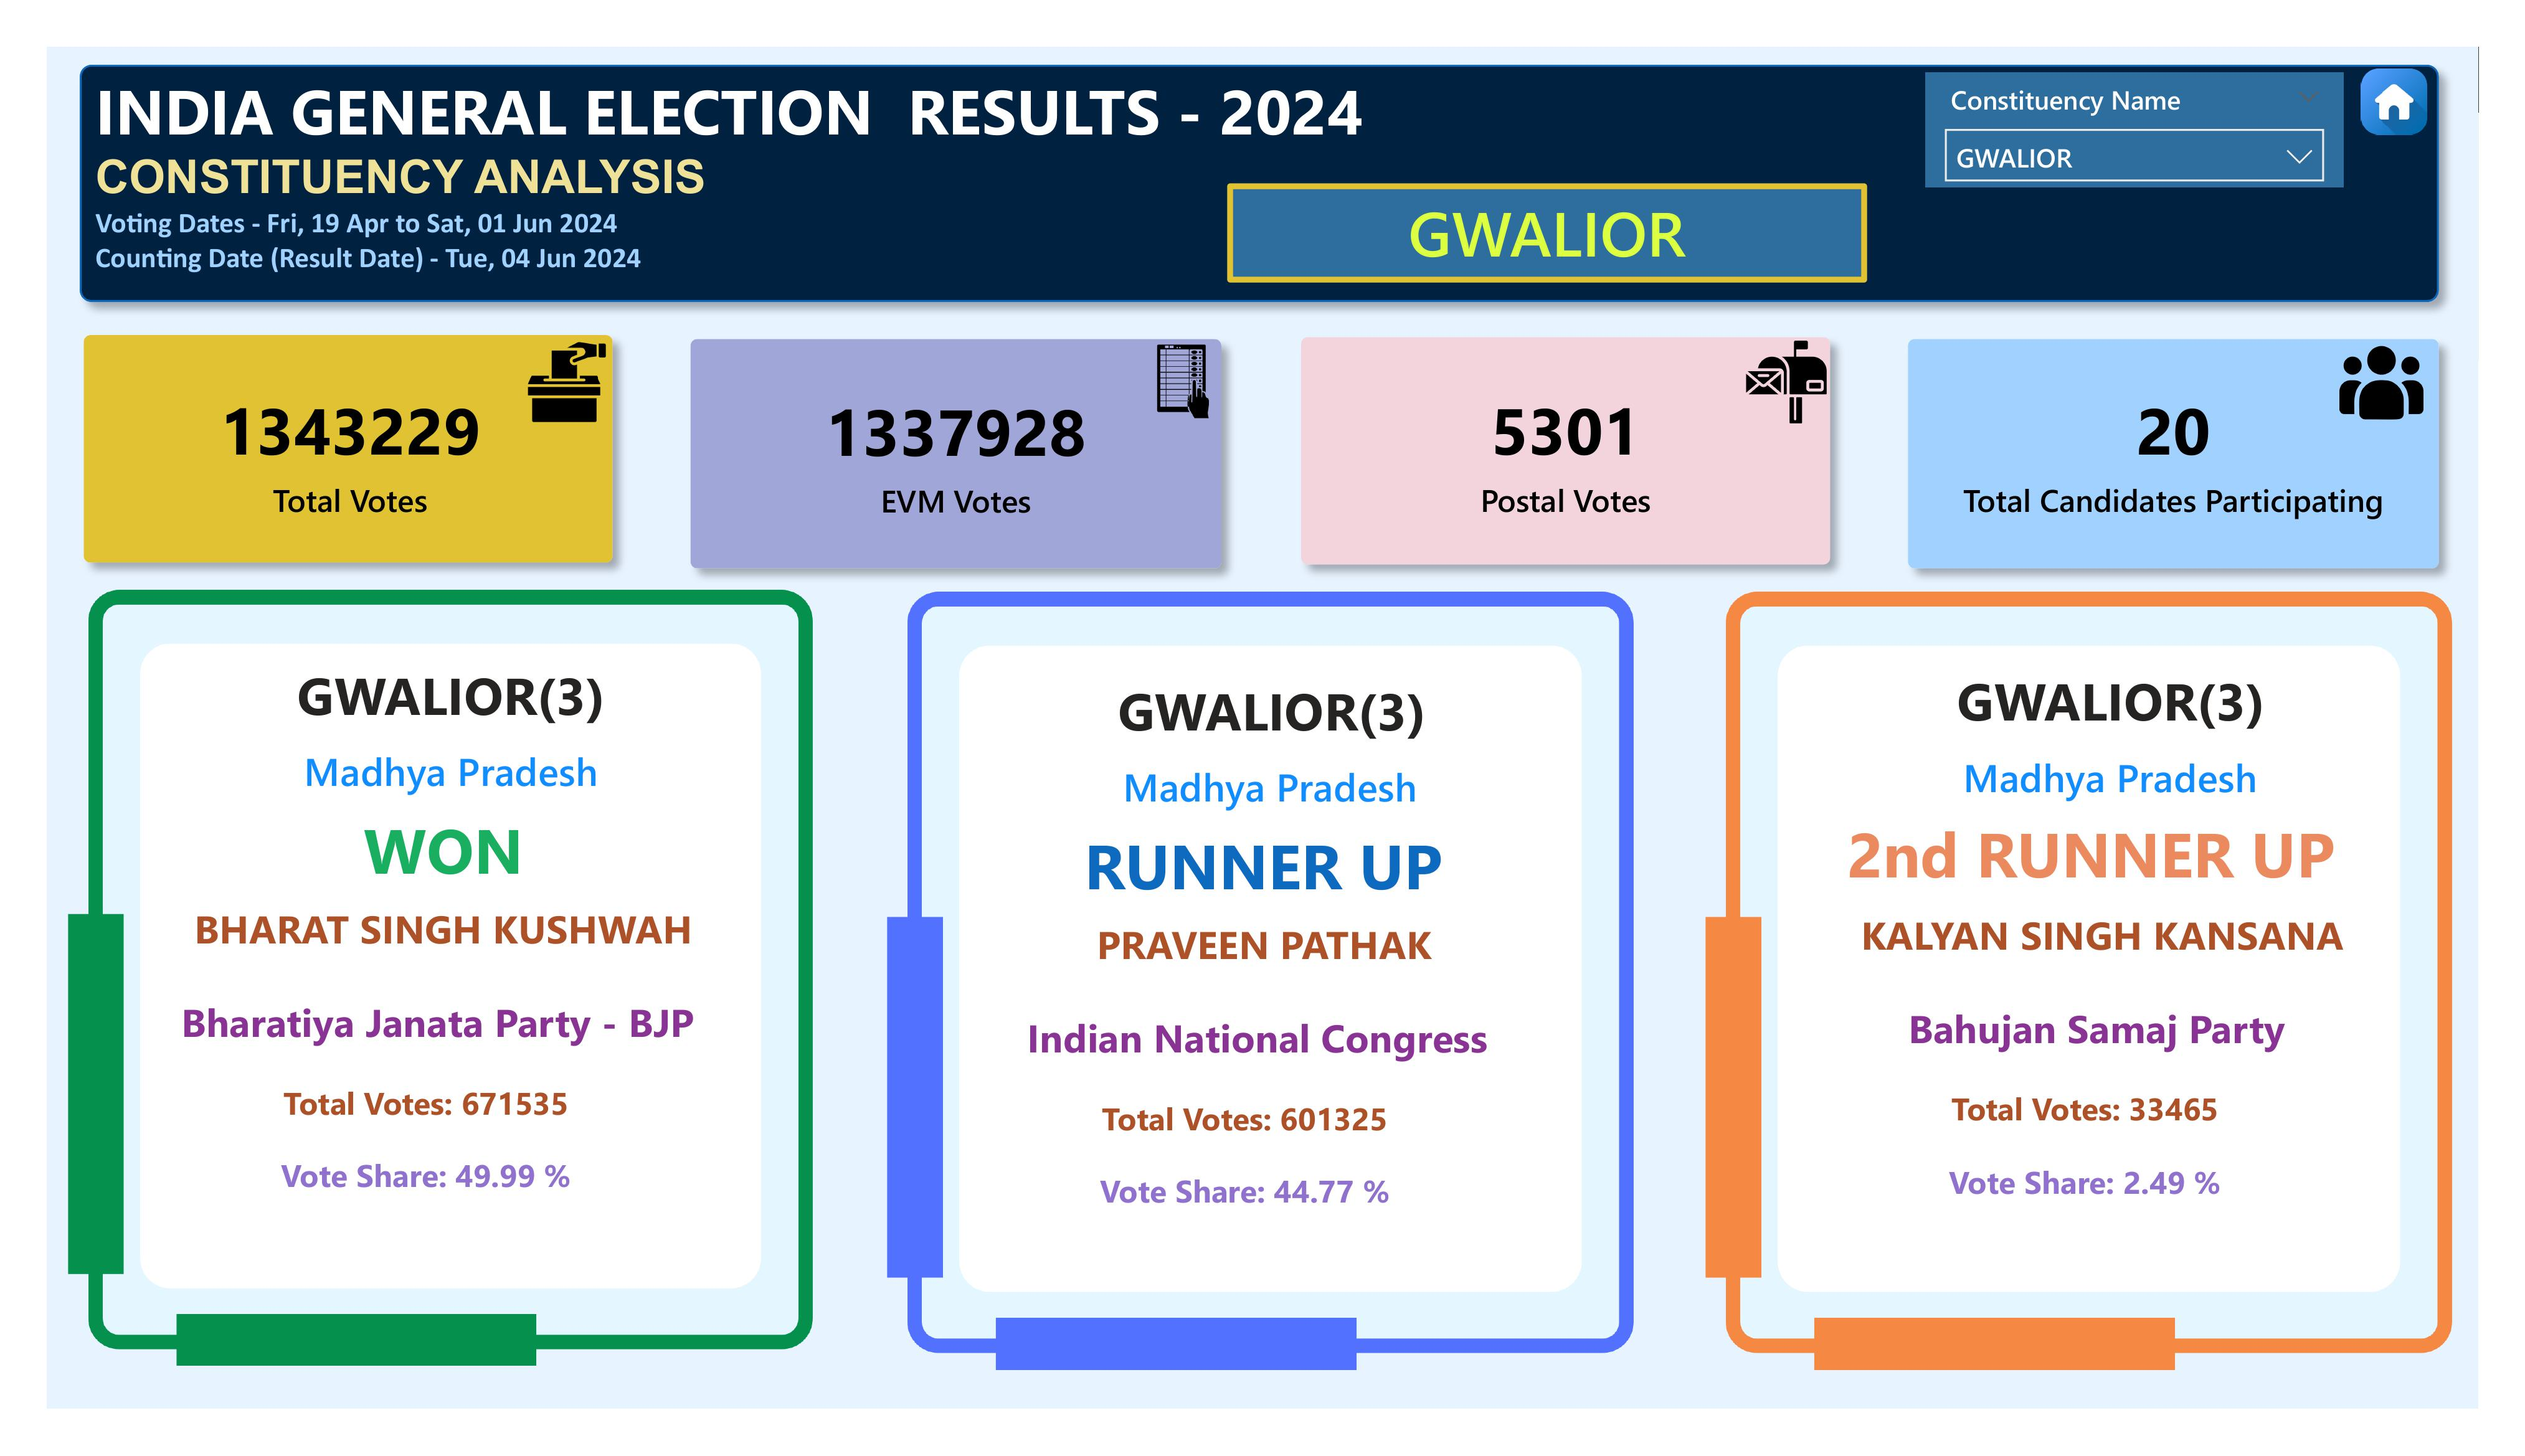

What the dashboard file says about the page in this screenshot:
{"tool":"powerbi","page":{"name":"Constituency Analysis","canvas":[1250,700],"ordinal":4},"visuals":[{"type":"shape","box":[9.3,0,1229.8,139.8],"z":0},{"type":"textbox","box":[25.3,5.9,684.8,121.3],"z":1000},{"type":"image","box":[684,14.3,63.2,40.4],"z":2000},{"type":"shape","box":[9.3,140,291.6,135.3],"z":3000},{"type":"image","box":[6,274.9,400,425],"z":4000},{"type":"card","fields":{"Values":["constituencywise_details.Winning Candidate"]},"box":[50.3,467.7,307.9,50.1],"z":5000},{"type":"slicer","fields":{"Values":["constituencywise_results.Constituency Name"]},"box":[901,36.7,275.2,72.4],"z":6000},{"type":"card","fields":{"Values":["constituencywise_details.Winning Candidate Total Votes"]},"box":[51.5,554,305.6,45.5],"z":7000},{"type":"card","fields":{"Values":["constituencywise_details.Winning Candidate Vote Share %"]},"box":[51.5,593.6,305.6,42],"z":8000},{"type":"card","fields":{"Values":["Min(constituencywise_results.Party Short Name Constituency Level Srt)"]},"box":[50.3,514.3,306.7,43.2],"z":9000},{"type":"card","fields":{"Values":["Min(constituencywise_results.Parliament Constituency)"]},"box":[50.5,322.1,306.7,51.3],"z":10000},{"type":"card","fields":{"Values":["constituencywise_details.Selected State Name"]},"box":[51.5,364.6,306.7,51.3],"z":11000},{"type":"textbox","box":[126.3,413,155.1,66.5],"z":12000},{"type":"image","box":[423.7,274.9,400.9,424.4],"z":13000},{"type":"card","fields":{"Values":["constituencywise_details.Runner Up Winning Candidate"]},"box":[472.3,468.2,307.9,50.1],"z":14000},{"type":"card","fields":{"Values":["constituencywise_details.Runner Up Winning Candidate Total Votes"]},"box":[473.4,554.5,305.6,45.5],"z":15000},{"type":"card","fields":{"Values":["constituencywise_details.Runner Up Winning Candidate Vote Share %"]},"box":[473.4,594.1,305.6,42],"z":16000},{"type":"card","fields":{"Values":["constituencywise_details.Runner UP Winning Party"]},"box":[472.3,514.8,306.7,43.2],"z":17000},{"type":"card","fields":{"Values":["Min(constituencywise_results.Parliament Constituency)"]},"box":[472.5,322.6,306.7,51.3],"z":18000},{"type":"card","fields":{"Values":["constituencywise_details.Selected State Name"]},"box":[473.4,365.1,306.7,51.3],"z":19000},{"type":"textbox","box":[471.9,411.8,307.1,67],"z":20000},{"type":"image","box":[844.5,274.9,400,424.5],"z":21000},{"type":"card","fields":{"Values":["constituencywise_details.2nd Runner Up Winning Candidate"]},"box":[890.9,468.9,307.9,50.1],"z":22000},{"type":"card","fields":{"Values":["constituencywise_details.2nd Runner Up Winning Candidate Total Votes"]},"box":[892.1,555.2,305.6,45.5],"z":23000},{"type":"card","fields":{"Values":["constituencywise_details.2nd Runner Up Winning Candidate Vote Share %"]},"box":[892.1,594.8,305.6,42],"z":24000},{"type":"card","fields":{"Values":["constituencywise_details.2nd Runner Up Winning Party"]},"box":[890.9,515.5,306.7,43.2],"z":25000},{"type":"card","fields":{"Values":["Min(constituencywise_results.Parliament Constituency)"]},"box":[891.1,323.3,306.7,51.3],"z":26000},{"type":"card","fields":{"Values":["constituencywise_details.Selected State Name"]},"box":[892.1,365.8,306.7,51.3],"z":27000},{"type":"textbox","box":[890.6,412.5,307.1,67],"z":28000},{"type":"card","fields":{"Values":["Sum(constituencywise_details.Total Votes)"]},"box":[17.5,149.3,274.1,116.6],"z":29000},{"type":"shape","box":[321.9,140,291.6,135.3],"z":30000},{"type":"shape","box":[634.4,140,291.6,135.3],"z":31000},{"type":"shape","box":[945.8,139.6,292.5,135.6],"z":32000},{"type":"card","fields":{"Values":["Sum(constituencywise_details.EVM Votes)"]},"box":[332.4,149.3,271.7,116.6],"z":33000},{"type":"card","fields":{"Values":["Sum(constituencywise_details.Postal Votes)"]},"box":[646.1,149.3,276.4,116.6],"z":34000},{"type":"card","fields":{"Values":["CountNonNull(constituencywise_details.Candidate)"]},"box":[958.7,149.3,269.4,116.6],"z":35000},{"type":"image","box":[250.7,149,41.1,34.9],"z":36000},{"type":"image","box":[572,149,34.9,34.9],"z":37000},{"type":"image","box":[884.7,148.2,31.8,34.9],"z":38000},{"type":"image","box":[1191.2,148.2,36.5,34.9],"z":39000},{"type":"shape","box":[423.7,58,413.3,75.5],"z":40000},{"type":"card","fields":{"Values":["Min(constituencywise_results.Parliament Constituency)"]},"box":[437.6,72,386.6,48.8],"z":41000},{"type":"image","box":[1176.2,10.2,51,49.9],"z":42000}]}

Visuals, with their boxes on the page's 1250x700 design canvas (x1, y1, x2, y2). These are canvas units, not pixel positions in the 2525x1456 screenshot, which may show the page scaled, cropped or inside an application window:
shape: l=9, t=0, r=1239, b=140
textbox: l=25, t=6, r=710, b=127
image: l=684, t=14, r=747, b=55
shape: l=9, t=140, r=301, b=275
image: l=6, t=275, r=406, b=700
card - constituencywise_details.Winning Candidate: l=50, t=468, r=358, b=518
slicer - constituencywise_results.Constituency Name: l=901, t=37, r=1176, b=109
card - constituencywise_details.Winning Candidate Total Votes: l=52, t=554, r=357, b=600
card - constituencywise_details.Winning Candidate Vote Share %: l=52, t=594, r=357, b=636
card - Min(constituencywise_results.Party Short Name Constituency Level Srt): l=50, t=514, r=357, b=558
card - Min(constituencywise_results.Parliament Constituency): l=50, t=322, r=357, b=373
card - constituencywise_details.Selected State Name: l=52, t=365, r=358, b=416
textbox: l=126, t=413, r=281, b=480
image: l=424, t=275, r=825, b=699
card - constituencywise_details.Runner Up Winning Candidate: l=472, t=468, r=780, b=518
card - constituencywise_details.Runner Up Winning Candidate Total Votes: l=473, t=554, r=779, b=600
card - constituencywise_details.Runner Up Winning Candidate Vote Share %: l=473, t=594, r=779, b=636
card - constituencywise_details.Runner UP Winning Party: l=472, t=515, r=779, b=558
card - Min(constituencywise_results.Parliament Constituency): l=472, t=323, r=779, b=374
card - constituencywise_details.Selected State Name: l=473, t=365, r=780, b=416
textbox: l=472, t=412, r=779, b=479
image: l=844, t=275, r=1244, b=699
card - constituencywise_details.2nd Runner Up Winning Candidate: l=891, t=469, r=1199, b=519
card - constituencywise_details.2nd Runner Up Winning Candidate Total Votes: l=892, t=555, r=1198, b=601
card - constituencywise_details.2nd Runner Up Winning Candidate Vote Share %: l=892, t=595, r=1198, b=637
card - constituencywise_details.2nd Runner Up Winning Party: l=891, t=516, r=1198, b=559
card - Min(constituencywise_results.Parliament Constituency): l=891, t=323, r=1198, b=375
card - constituencywise_details.Selected State Name: l=892, t=366, r=1199, b=417
textbox: l=891, t=412, r=1198, b=480
card - Sum(constituencywise_details.Total Votes): l=18, t=149, r=292, b=266
shape: l=322, t=140, r=614, b=275
shape: l=634, t=140, r=926, b=275
shape: l=946, t=140, r=1238, b=275
card - Sum(constituencywise_details.EVM Votes): l=332, t=149, r=604, b=266
card - Sum(constituencywise_details.Postal Votes): l=646, t=149, r=922, b=266
card - CountNonNull(constituencywise_details.Candidate): l=959, t=149, r=1228, b=266
image: l=251, t=149, r=292, b=184
image: l=572, t=149, r=607, b=184
image: l=885, t=148, r=916, b=183
image: l=1191, t=148, r=1228, b=183
shape: l=424, t=58, r=837, b=134
card - Min(constituencywise_results.Parliament Constituency): l=438, t=72, r=824, b=121
image: l=1176, t=10, r=1227, b=60
